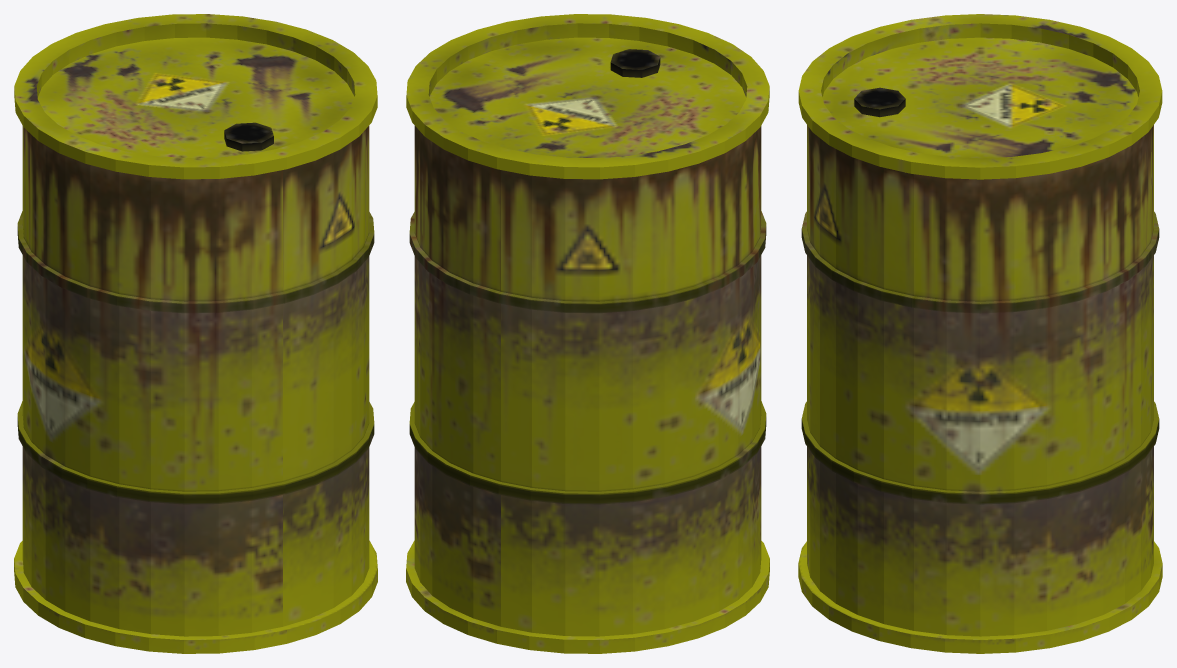
Rendered from Radioactive Barrel.fbx.
3 renders of one model, left to right at view 1: azimuth 30°, elevation 25°; view 2: azimuth 150°, elevation 25°; view 3: azimuth 270°, elevation 25°, orthographic.
Parts seen in each view (by area): view 1: Radioactive Barrel; view 2: Radioactive Barrel; view 3: Radioactive Barrel.
Part boxes in pixels (x1,y1,x2,y2): Radioactive Barrel: [14, 14, 377, 653]; Radioactive Barrel: [406, 14, 769, 653]; Radioactive Barrel: [798, 14, 1162, 653].
Size of the model in its own units: 210 by 309 by 210.
Materials: 1 (1 with a texture image).
